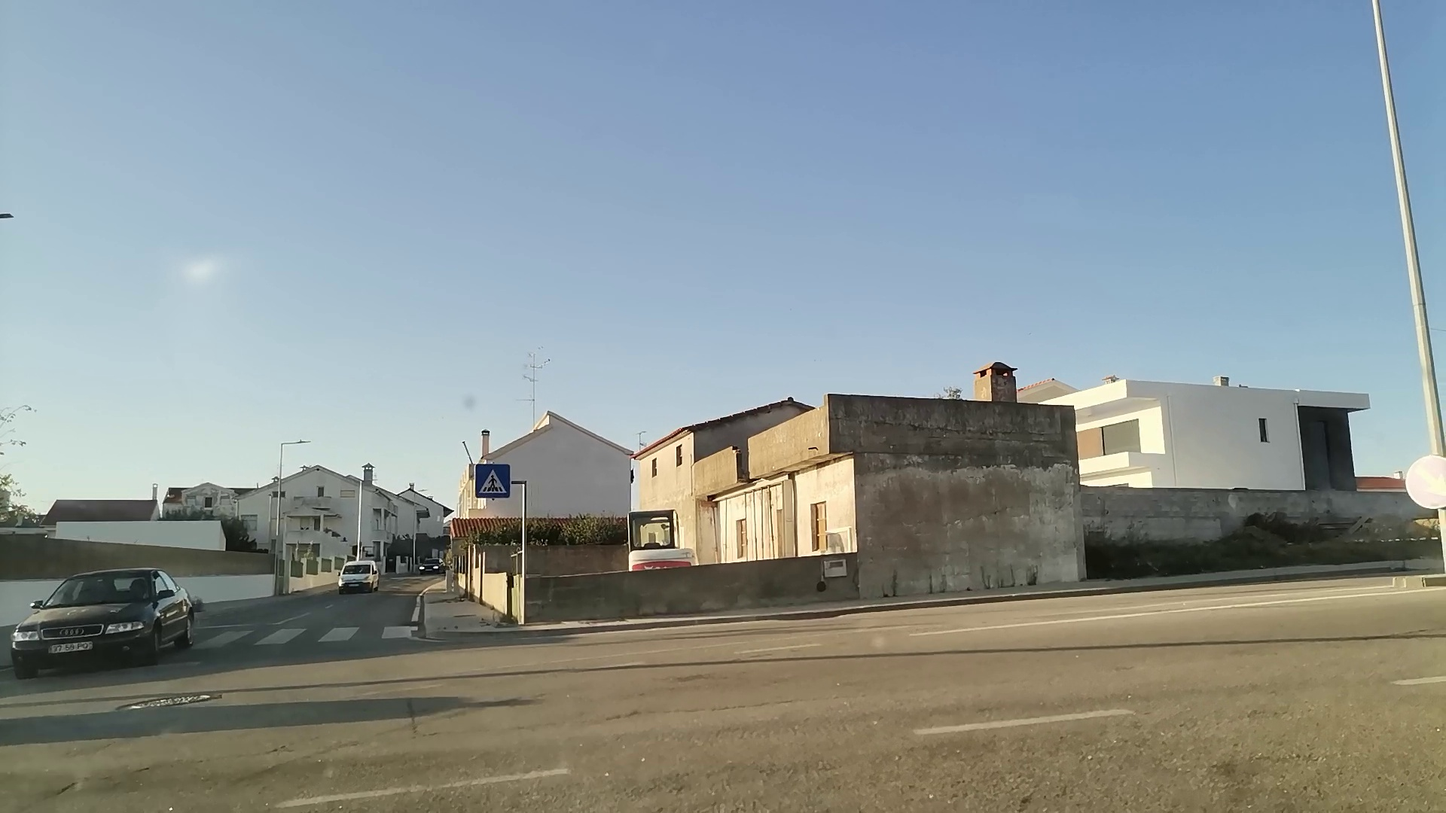Stairs: (197, 621, 424, 652)
